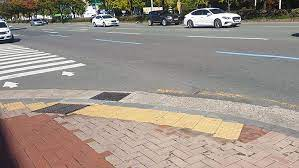guide_blocks: (89, 106, 165, 123), (4, 103, 89, 114), (171, 115, 214, 133), (214, 120, 242, 139)
